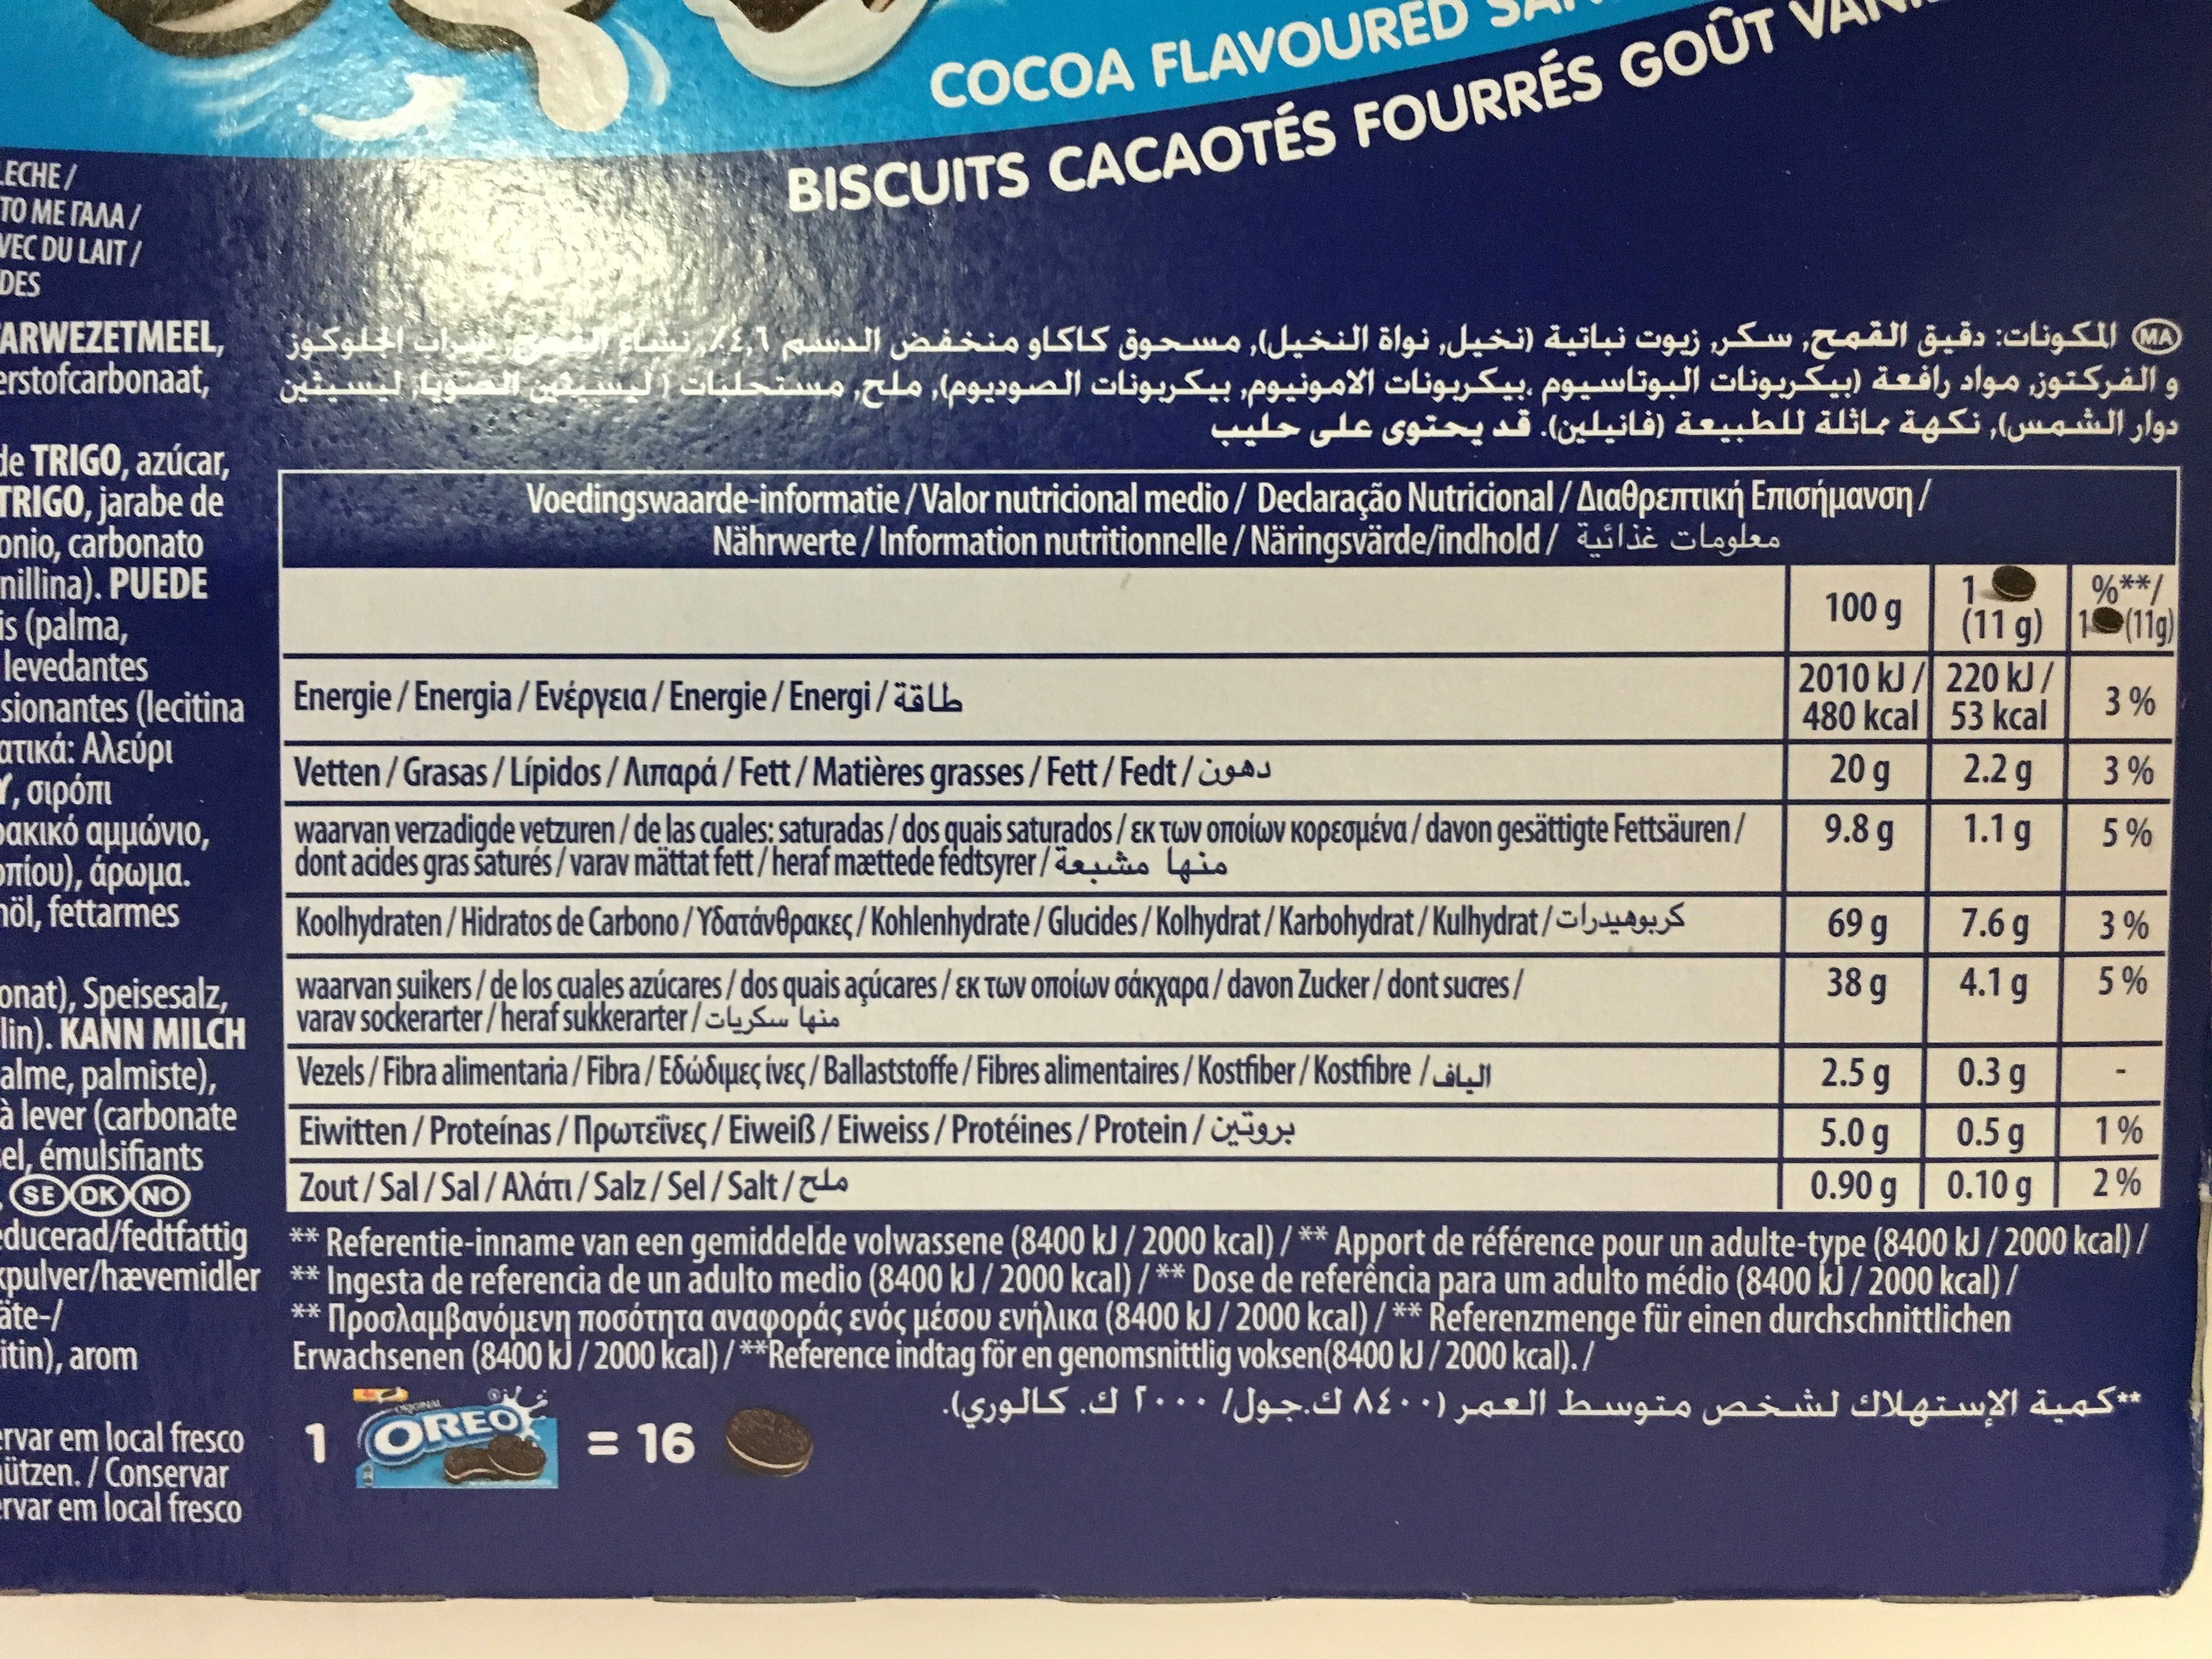column: (296, 673, 1754, 1204), (1801, 592, 1925, 1206), (1946, 568, 2052, 1206), (2080, 572, 2170, 1197)
table: (273, 458, 2189, 1220)
